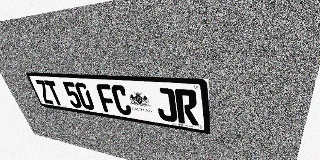0: (74, 82, 95, 110)
5: (62, 81, 83, 109)
C: (110, 84, 133, 116)
F: (95, 84, 118, 114)
J: (154, 87, 178, 123)
R: (174, 89, 199, 126)
T: (44, 80, 64, 106)
Z: (34, 80, 54, 104)
